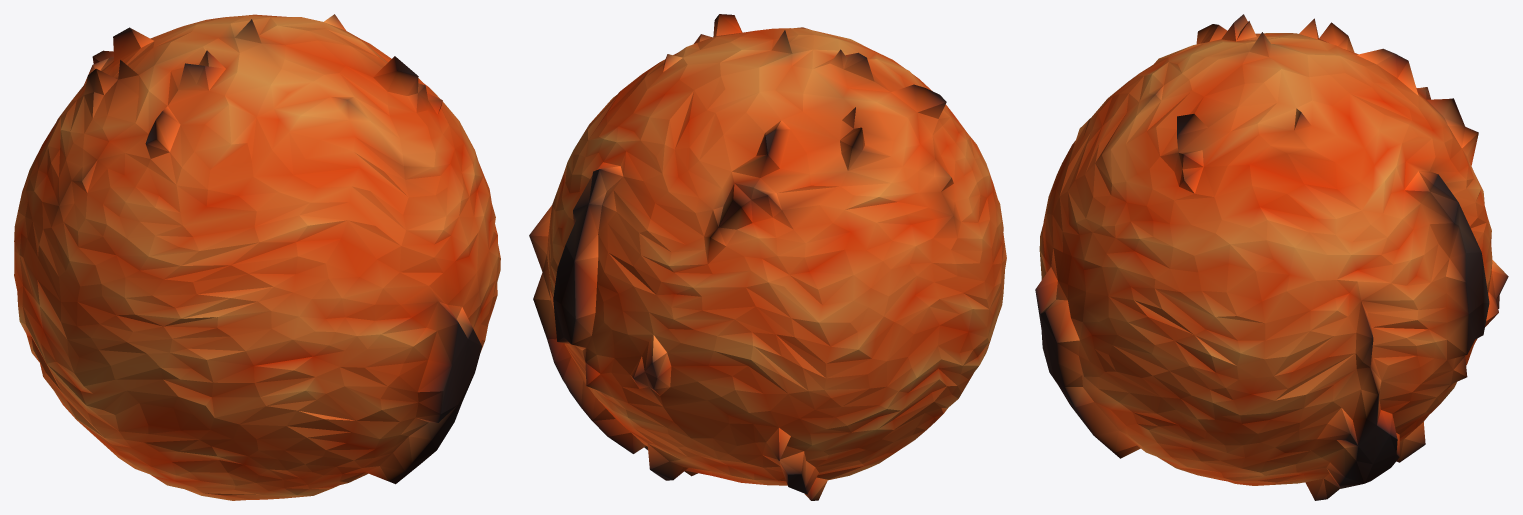
File: barren_23.fbx
3 views of the same model, side by side, from view 1: azimuth 30°, elevation 25°; view 2: azimuth 150°, elevation 25°; view 3: azimuth 270°, elevation 25° (orthographic). The views are drawn at different scales.
Parts seen in each view (by area): view 1: filecache1; view 2: filecache1; view 3: filecache1.
Part boxes in pixels (x1,y1,x2,y2): filecache1: (14, 14, 500, 500); filecache1: (529, 14, 1006, 500); filecache1: (1035, 14, 1508, 500).
Bounding box in the file's own units: 2.03 × 2.12 × 2.11.
